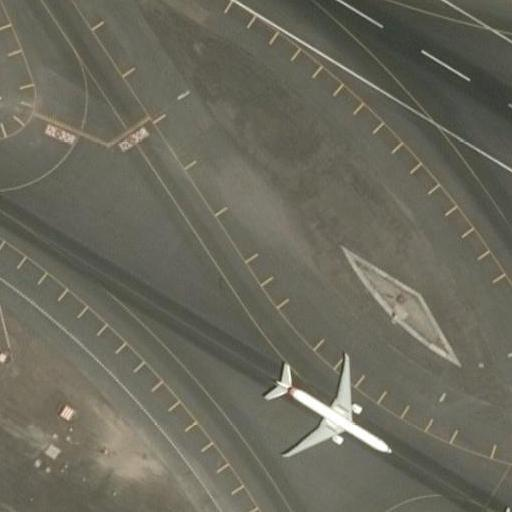Aircraft: (254, 349, 391, 463), (486, 498, 512, 512)
